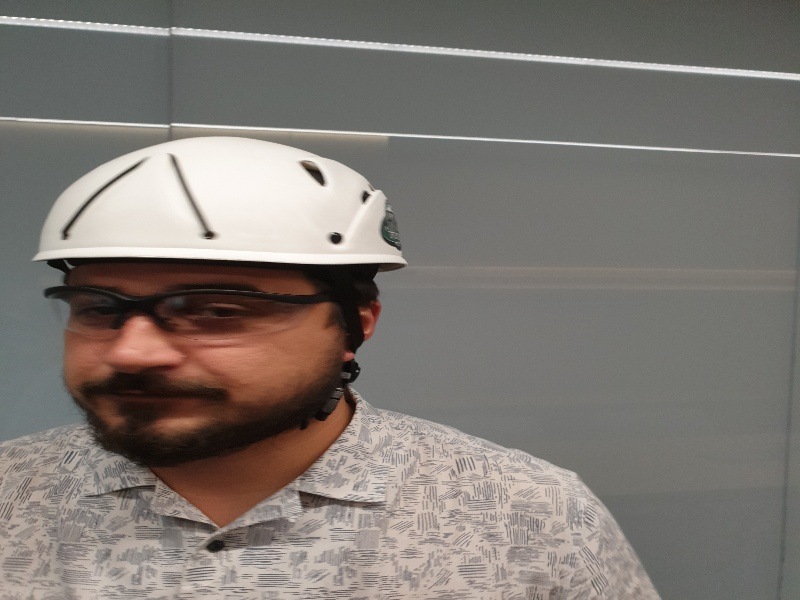Baret: (39, 134, 411, 273)
Gozluk: (45, 283, 351, 343)
